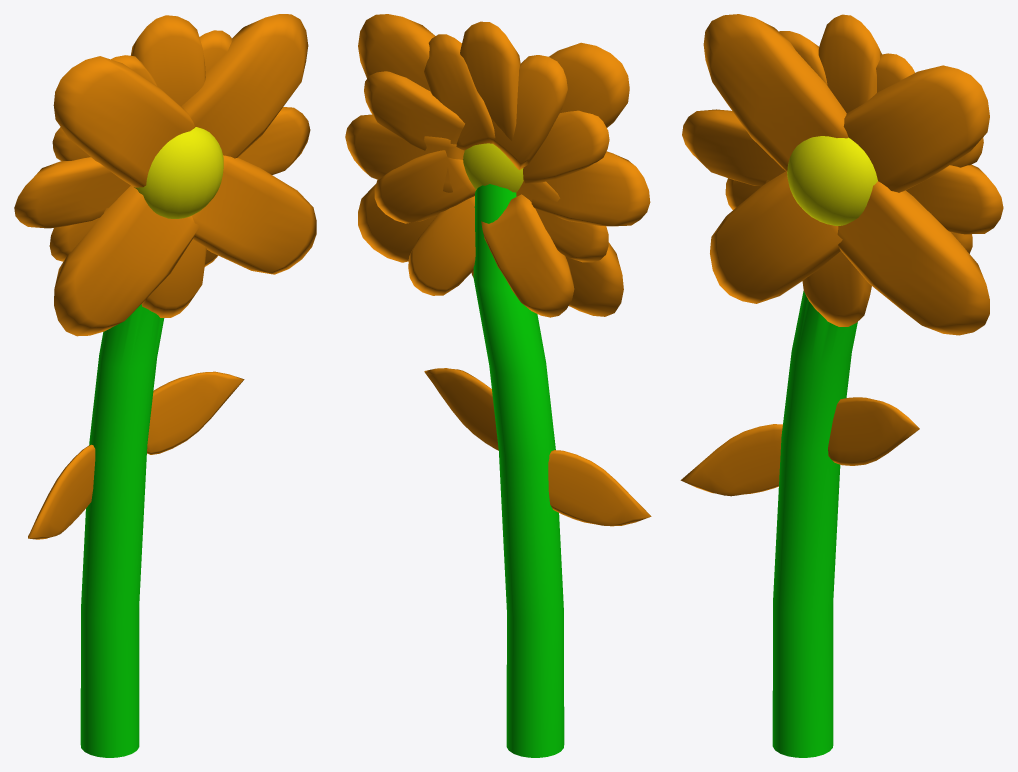
Rendered from planta laranja.fbx.
The picture shows the model from 3 angles, left to right: view 1: azimuth 30°, elevation 25°; view 2: azimuth 150°, elevation 25°; view 3: azimuth 330°, elevation 25°; orthographic projection. The views are drawn at different scales.
Parts seen in each view (by area): view 1: polySurface163; view 2: polySurface163; view 3: polySurface163.
Boxes of the visible parts, x1,y1,x2,y2 form: polySurface163: (14,14,316,757); polySurface163: (345,14,651,757); polySurface163: (680,14,1003,757).
Size of the model in its own units: 0.4971 by 1.13 by 0.1432.
